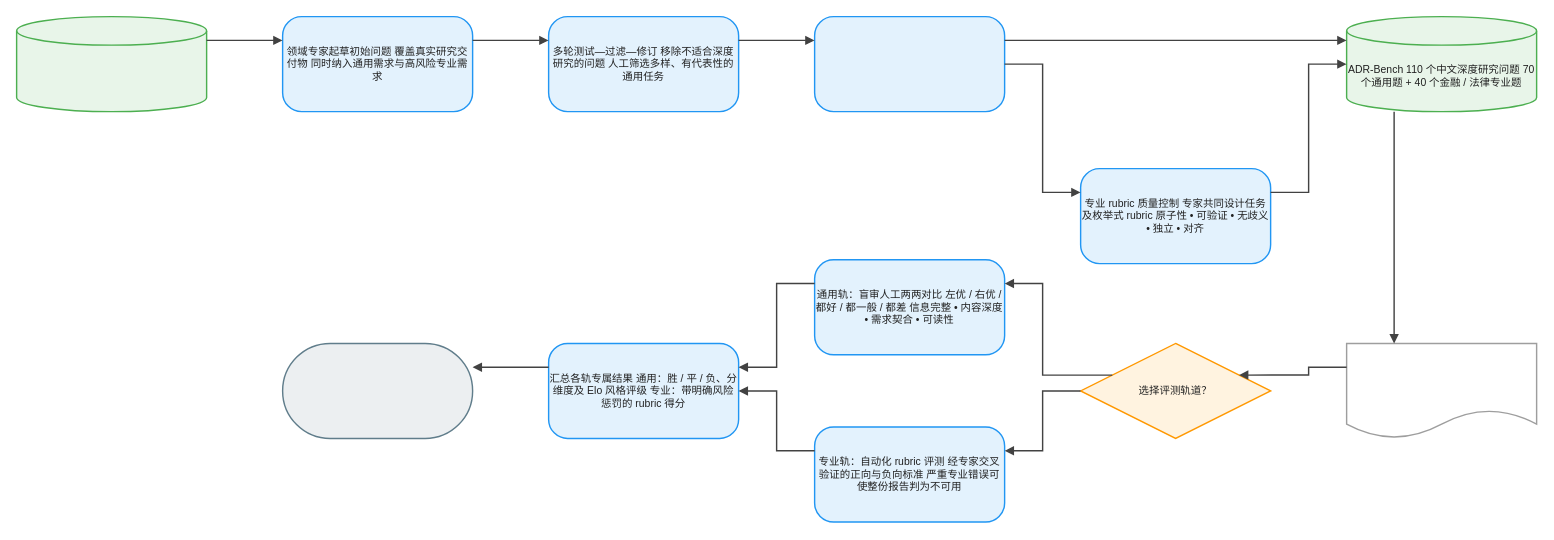
Image size: 1554x540. Some labels were removed from this diagram. The shapes that lost their labels are listed below. From the top down, each one's box as (x1, y1, x2, y2) in pixels, then its label:
(15, 15, 207, 112): 调研真实深度研究用法 日常用户需求与业务场景 聚焦复杂、开放式中文研究请求
(813, 15, 1005, 112): 将 9 个领域组织为双轨 通用：7 个领域 × 10 = 70 题 专业：金融 20 + 法律 20 = 40 题
(281, 342, 473, 439): ADR-Bench 结果 真实用户偏好 + 专业知识质量 报告总体、维度、领域与专业分层视图
(1345, 342, 1537, 439): 生成最终研究报告 ReAct 智能体：最多 30 轮，每轮 16k token 商业系统：使用默认网页配置
